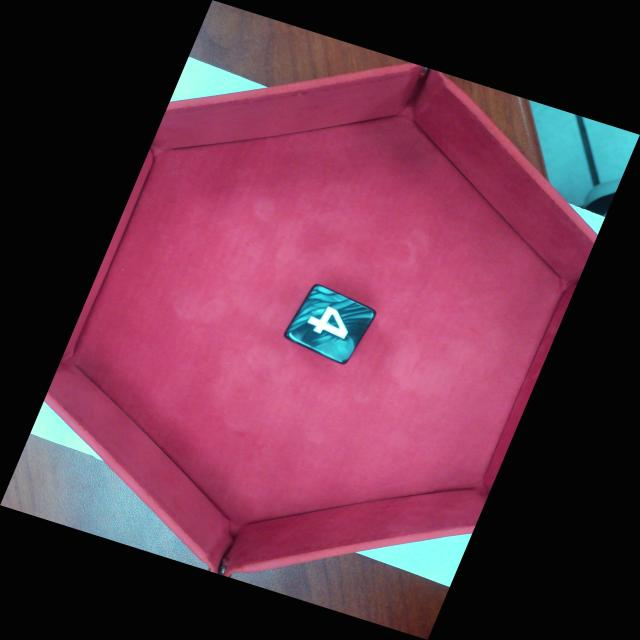dice: (291, 289, 377, 359)
